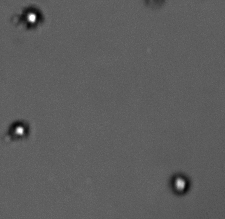Dead Cell: (143, 1, 168, 11)
Living Cell: (19, 4, 44, 31), (168, 171, 192, 197), (7, 119, 33, 141)
